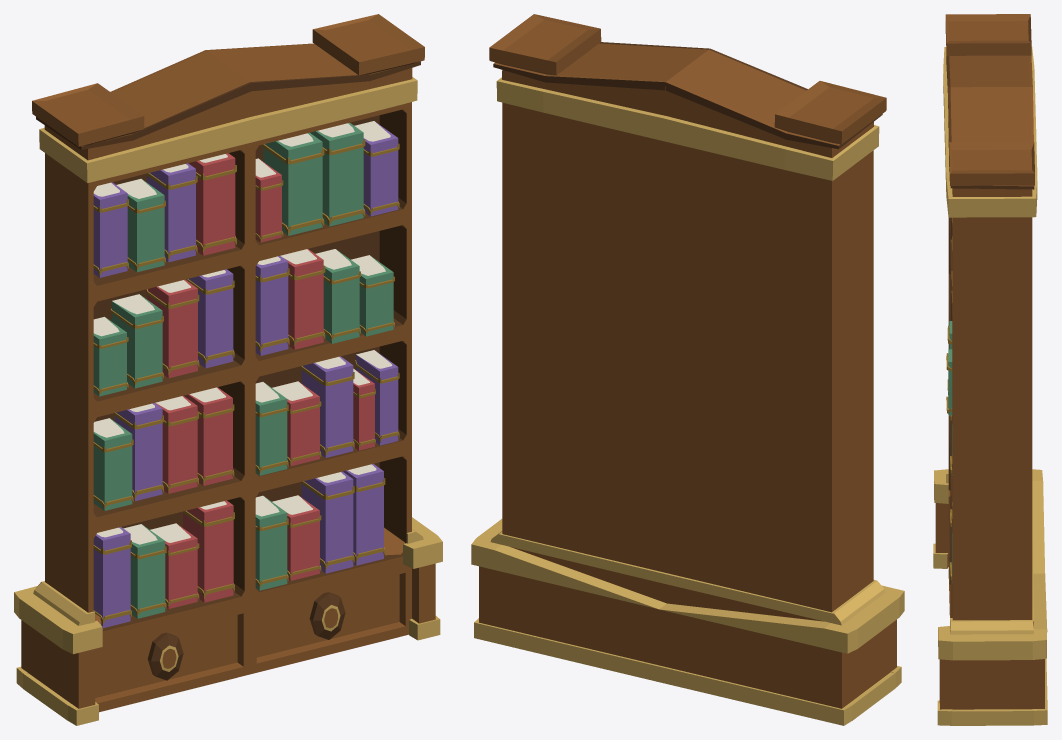
The model's file is BOOKSHELF.fbx.
3 renders of one model, left to right at view 1: azimuth 30°, elevation 25°; view 2: azimuth 150°, elevation 25°; view 3: azimuth 270°, elevation 25°, orthographic. The views are drawn at different scales.
Parts seen in each view (by area): view 1: Cube.077; view 2: Cube.077; view 3: Cube.077.
Boxes of the visible parts, <box> form: Cube.077: <box>14,14,442,725</box>; Cube.077: <box>471,14,904,725</box>; Cube.077: <box>933,14,1047,725</box>.
Bounding box in the file's own units: 692 × 1036 × 194.
